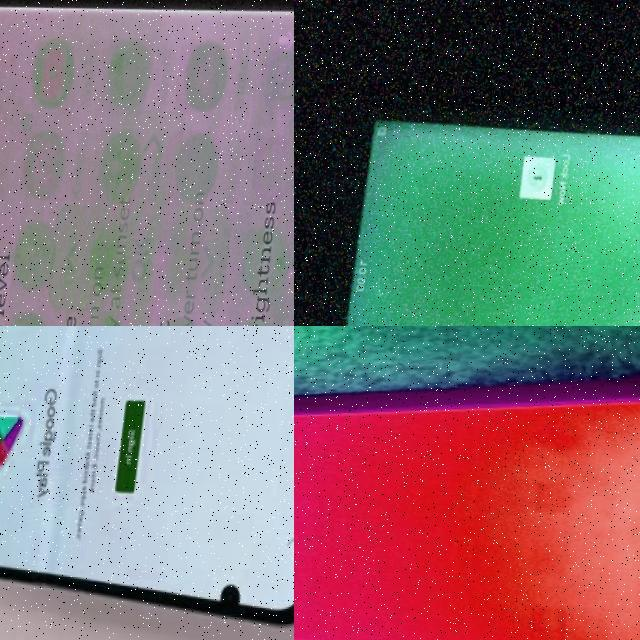dead pixel: (218, 557, 260, 626)
